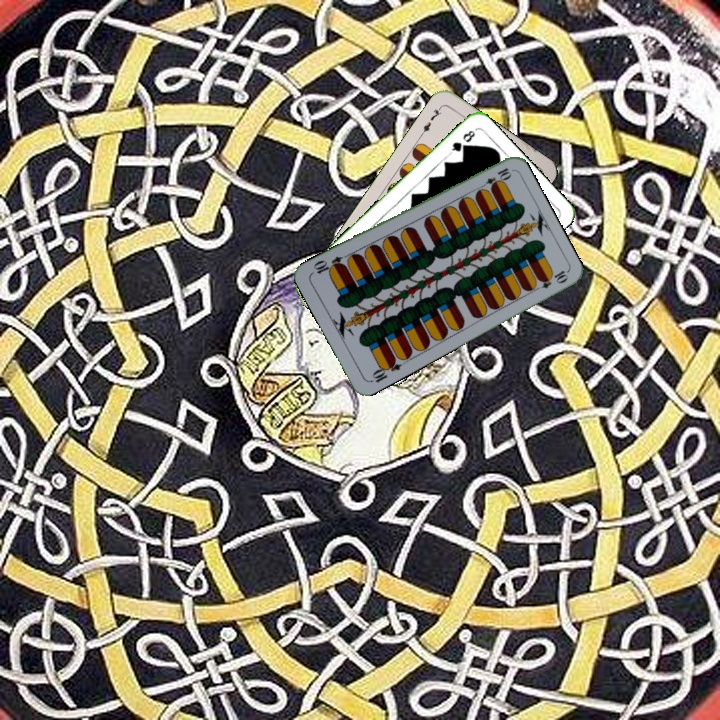E10: (366, 354, 404, 385), (475, 163, 514, 192)
E7: (416, 102, 445, 138)
G8: (446, 126, 478, 157)
